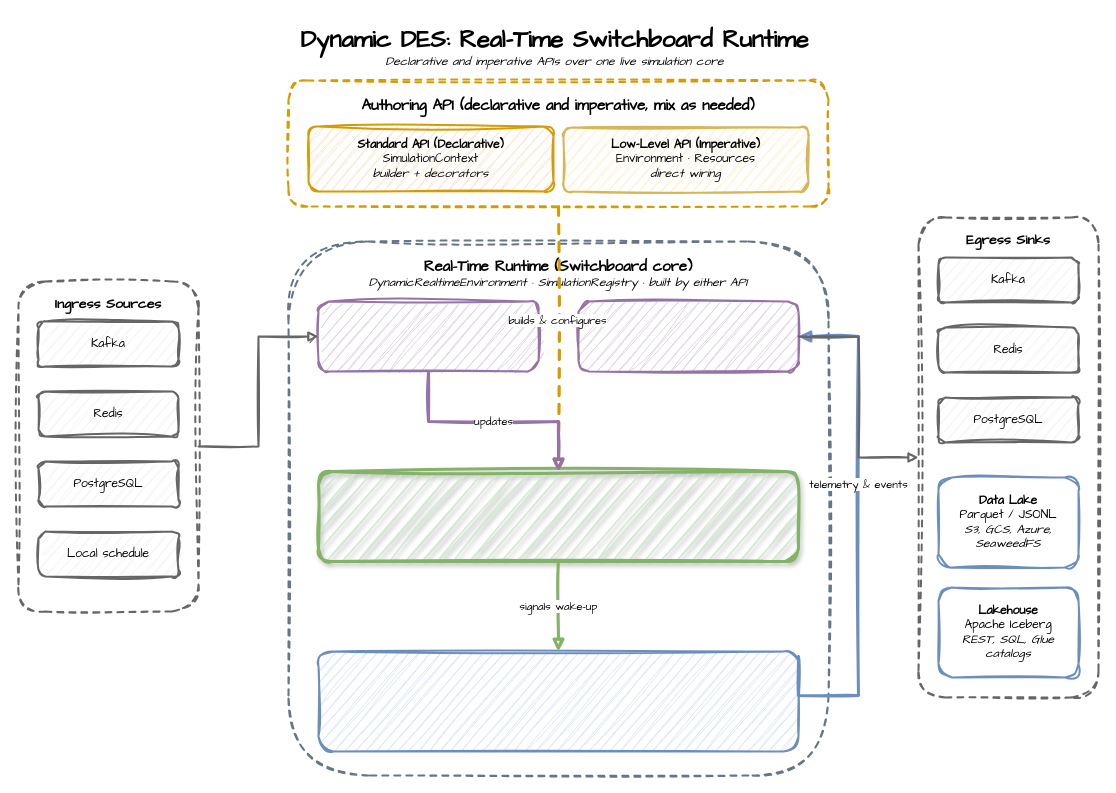
This 1116x793 diagram has some shape labels left out. Each missing label, with the centre of its shape:
"Egress Connectors Pydantic payloads, orjson, batched" goes at (x=688, y=336).
"Ingress Connectors background I/O threads" goes at (x=428, y=336).
"Registry (Switchboard) central state, dot-notation paths" goes at (x=559, y=518).
"SimPy Resources DynamicResource passive observers, event-driven capacity" goes at (x=558, y=701).
